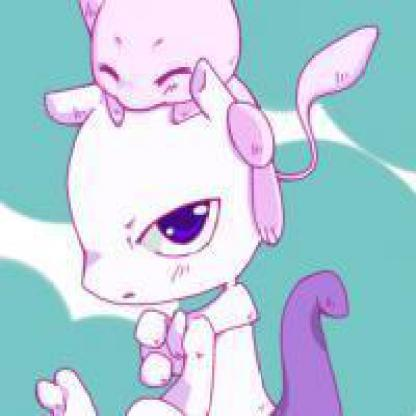Mew: (1, 57, 411, 406)
